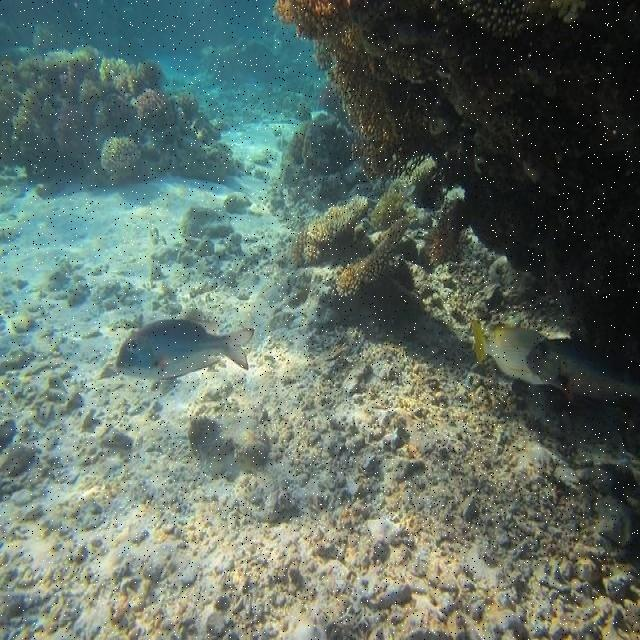aquatic plants: (372, 191, 408, 230)
fish: (116, 319, 254, 380), (526, 338, 636, 402), (472, 322, 552, 385)
reefs: (0, 45, 127, 164), (334, 221, 407, 298), (290, 196, 368, 268), (101, 136, 142, 174), (101, 57, 143, 92), (136, 86, 169, 117)
sea-floor: (272, 0, 639, 296)
